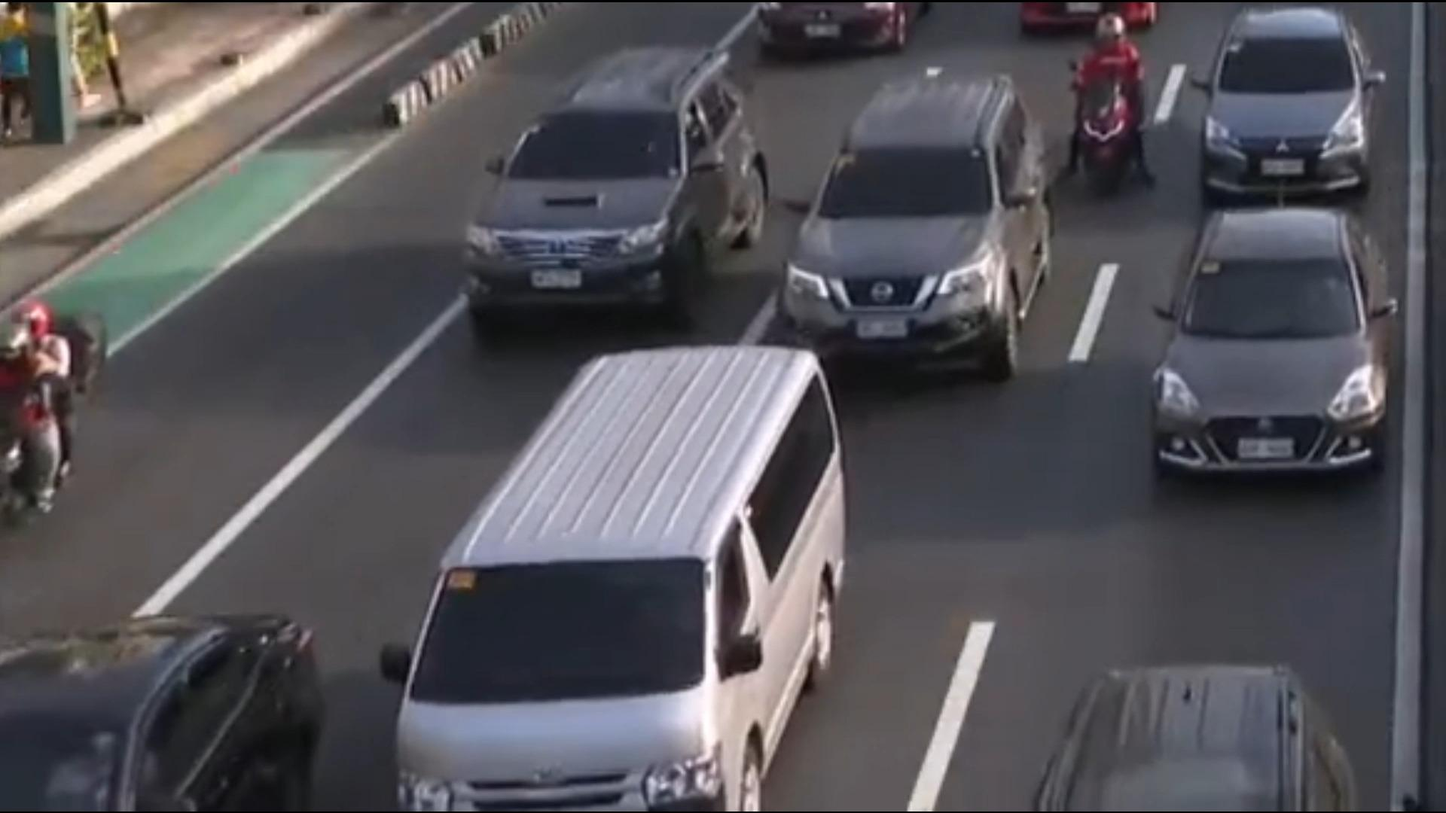SUV: (779, 70, 1058, 388), (454, 53, 770, 327), (1030, 662, 1361, 813), (4, 299, 94, 533), (1056, 8, 1156, 198)
Sedan: (1135, 209, 1399, 480), (4, 598, 328, 813), (1194, 8, 1382, 194)
Van: (378, 348, 855, 813)
